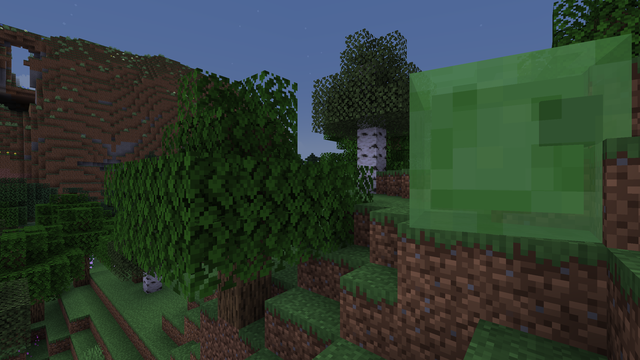slimes: (393, 17, 613, 249)
